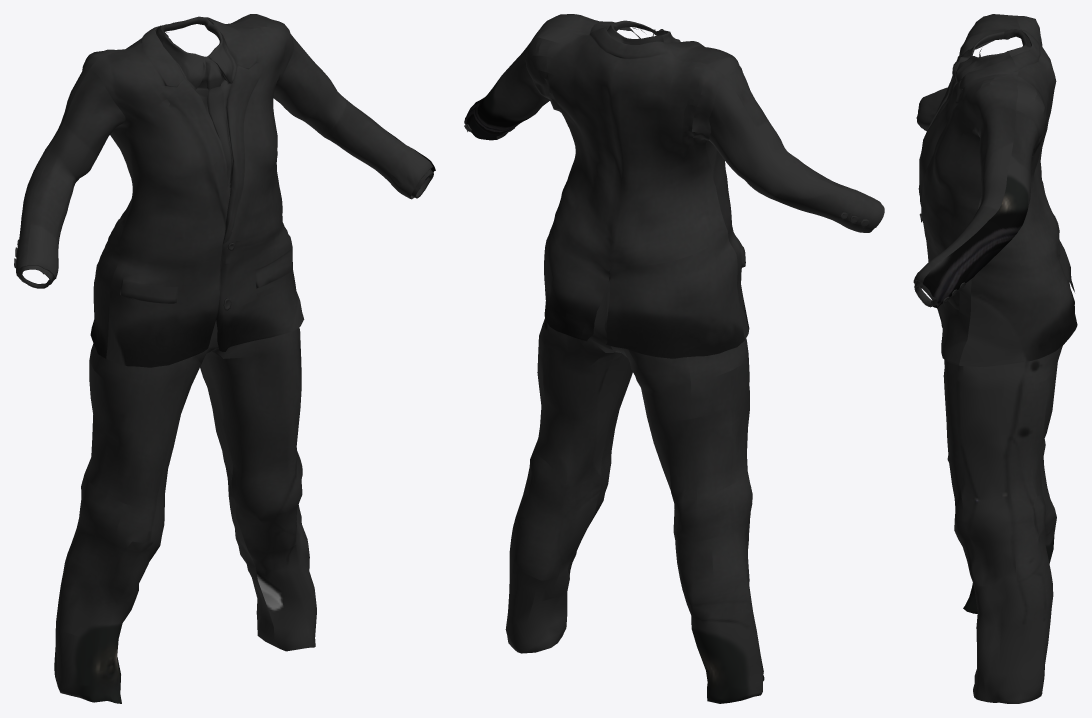
Rendered from office-male.glb.
3 views of the same model, side by side, from view 1: azimuth 30°, elevation 25°; view 2: azimuth 150°, elevation 25°; view 3: azimuth 270°, elevation 25° (orthographic). The views are drawn at different scales.
Parts seen in each view (by area): view 1: office-male; view 2: office-male; view 3: office-male.
Boxes of the visible parts, x1,y1,x2,y2 form: office-male: (14, 14, 435, 703); office-male: (464, 14, 884, 703); office-male: (913, 14, 1077, 703).
Bounding box in the file's own units: 0.9221 × 1.36 × 0.3287.
Materials: 1 (1 with a texture image).
